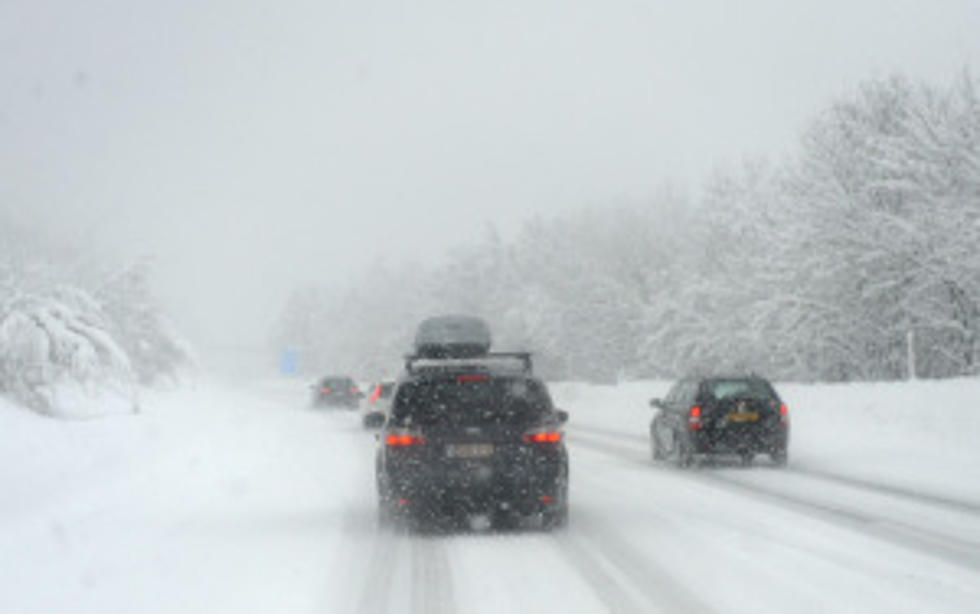car: (373, 358, 574, 533), (648, 371, 794, 471)
